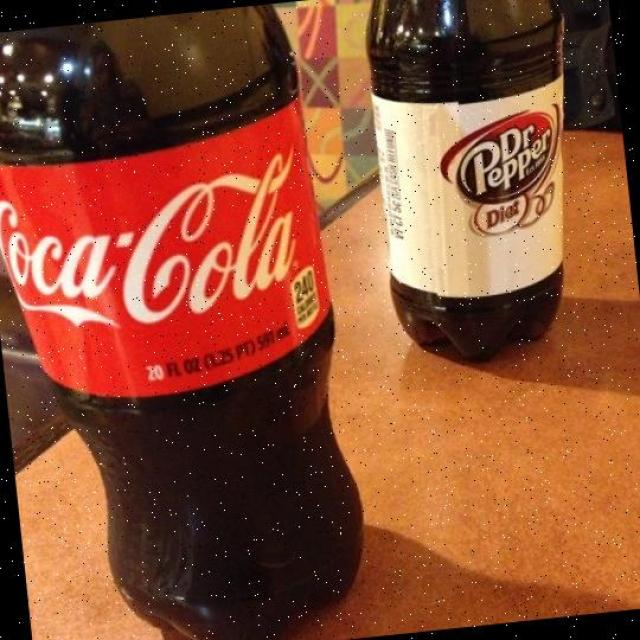coca-cola: (0, 0, 398, 640)
